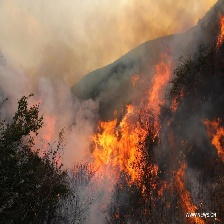fire: (92, 21, 224, 221)
smoke: (2, 1, 98, 166)
